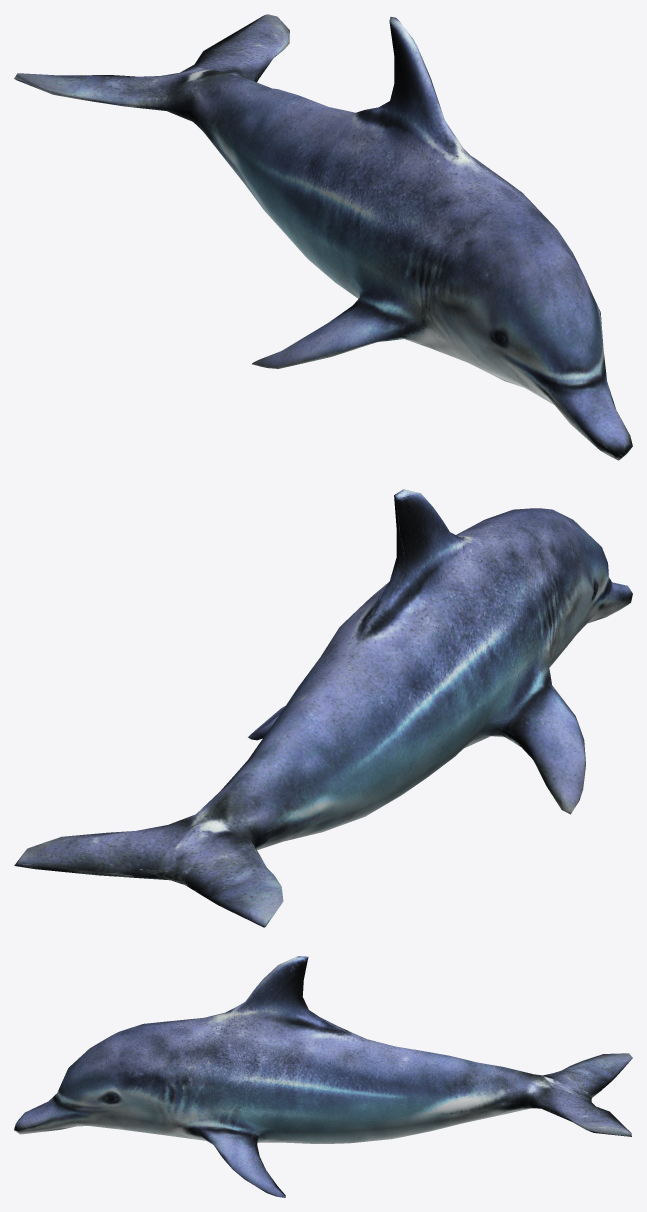
File: Dolphin_Low_Poly.obj
The picture shows the model from 3 angles, top to bottom: view 1: azimuth 30°, elevation 25°; view 2: azimuth 150°, elevation 25°; view 3: azimuth 270°, elevation 25°; orthographic projection. The views are drawn at different scales.
Visible parts, largest first — view 1: Dolphin_Low_Poly; view 2: Dolphin_Low_Poly; view 3: Dolphin_Low_Poly.
Boxes of the visible parts, <box> form: Dolphin_Low_Poly: <box>14,14,632,460</box>; Dolphin_Low_Poly: <box>14,489,632,927</box>; Dolphin_Low_Poly: <box>14,956,632,1197</box>.
Size of the model in its own units: 0.9459 by 0.832 by 2.44.
1 material, 1 textured.
